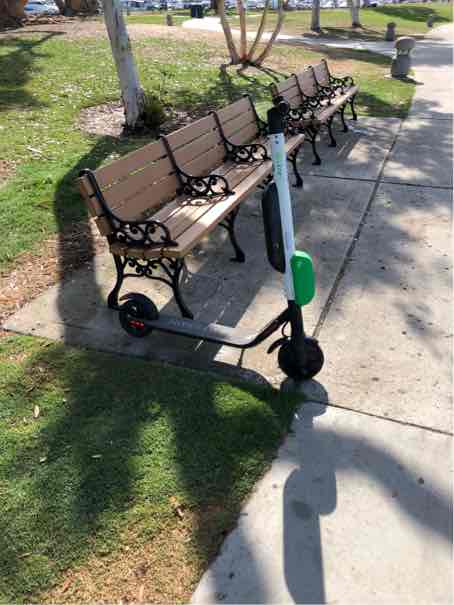scooter: (111, 66, 334, 402)
